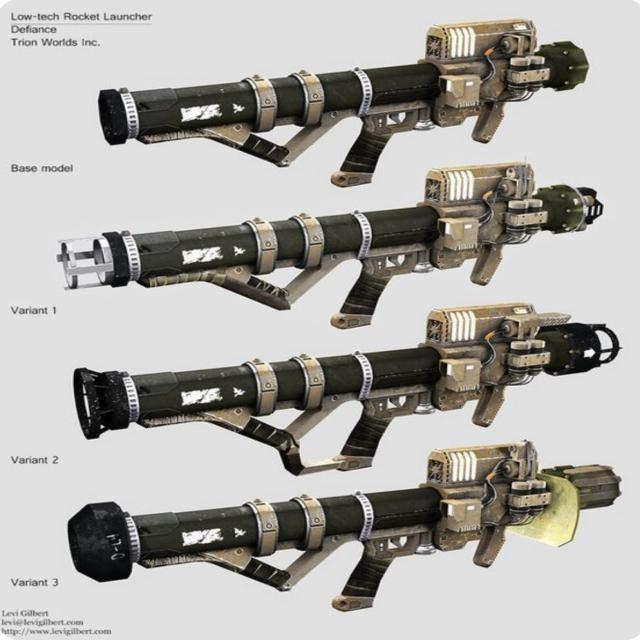bazooka: (61, 464, 623, 586), (56, 181, 605, 305), (71, 326, 624, 445), (92, 41, 599, 149)
